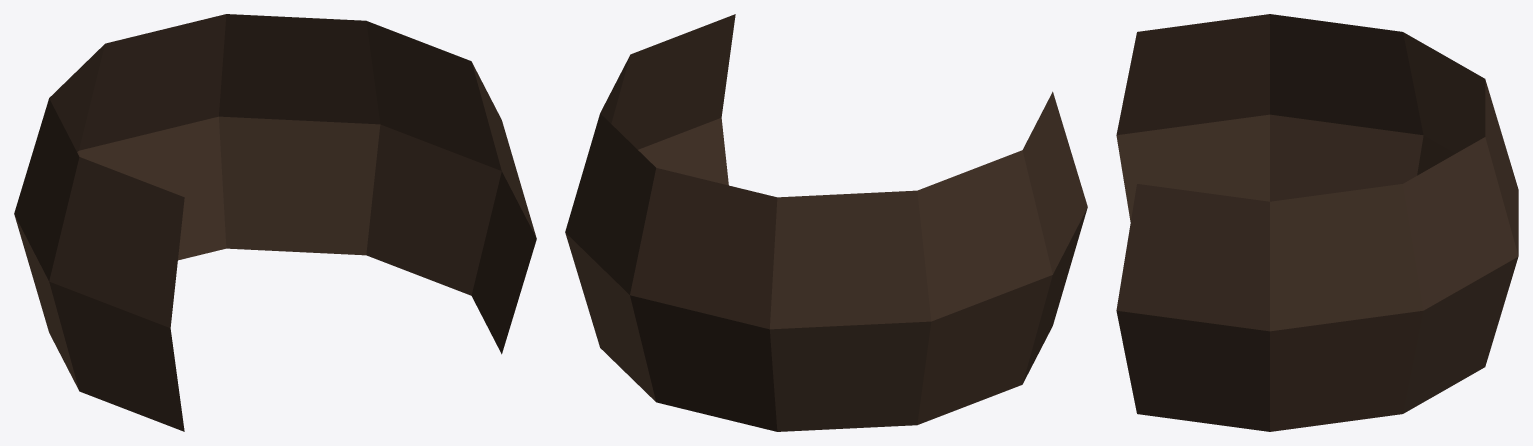
File: calvitie.glb
The picture shows the model from 3 angles, left to right: view 1: azimuth 30°, elevation 25°; view 2: azimuth 150°, elevation 25°; view 3: azimuth 270°, elevation 25°; orthographic projection.
Parts seen in each view (by area): view 1: calvitie; view 2: calvitie; view 3: calvitie.
Boxes of the visible parts, x1,y1,x2,y2 form: calvitie: (14, 14, 536, 431); calvitie: (565, 14, 1087, 431); calvitie: (1116, 14, 1518, 431).
Bounding box in the file's own units: 2.12 × 1.05 × 1.66.
1 material, 1 textured.
